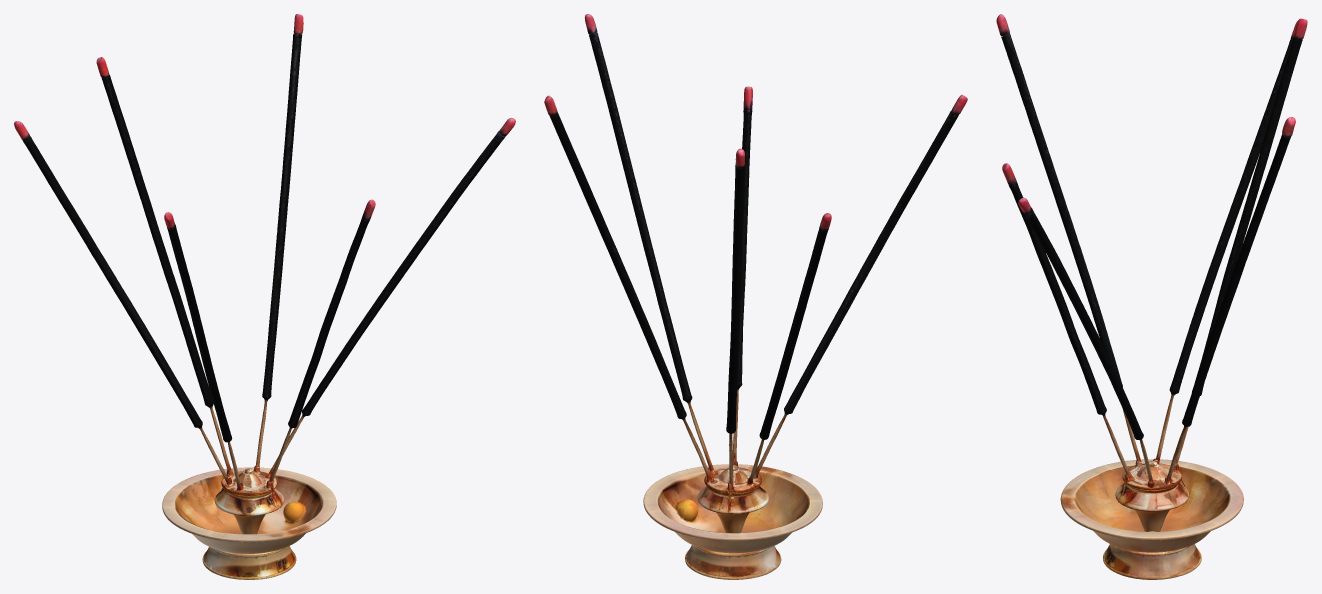
The model's file is incense.glb.
The picture shows the model from 3 angles, left to right: view 1: azimuth 30°, elevation 25°; view 2: azimuth 150°, elevation 25°; view 3: azimuth 270°, elevation 25°; orthographic projection. The views are drawn at different scales.
Visible parts, largest first — view 1: tripo_node_680111e5-b387-42b1-9501-18eb4e80363e; view 2: tripo_node_680111e5-b387-42b1-9501-18eb4e80363e; view 3: tripo_node_680111e5-b387-42b1-9501-18eb4e80363e.
Part boxes in pixels (left/top/right/bottom): tripo_node_680111e5-b387-42b1-9501-18eb4e80363e: left=14, top=14, right=515, bottom=579; tripo_node_680111e5-b387-42b1-9501-18eb4e80363e: left=544, top=14, right=967, bottom=579; tripo_node_680111e5-b387-42b1-9501-18eb4e80363e: left=996, top=14, right=1307, bottom=579.
Bounding box in the file's own units: 0.8043 × 0.9793 × 0.5509.
1 material, 1 textured.
